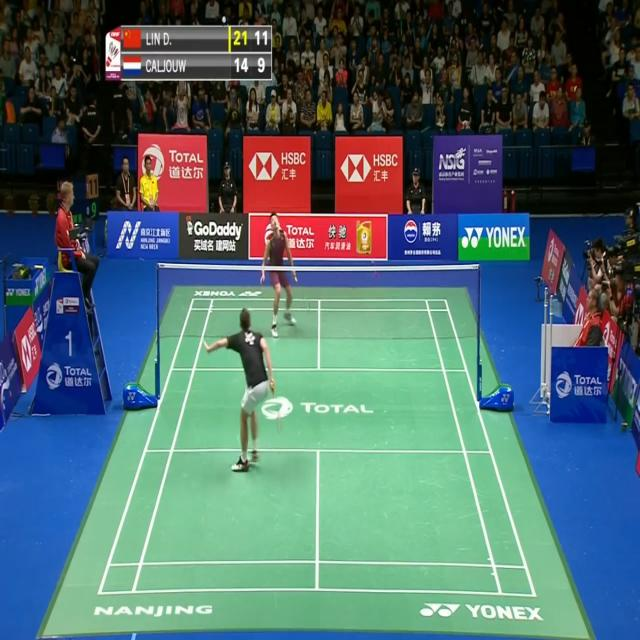Player1: (199, 298, 281, 482)
Player2: (256, 197, 302, 351)
